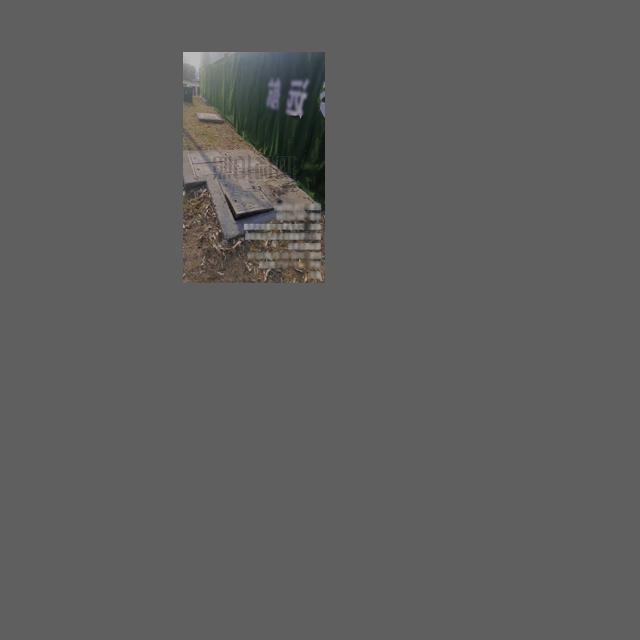good: (188, 150, 233, 176), (225, 150, 267, 172), (200, 112, 219, 118)
uncovered: (215, 175, 280, 225)
